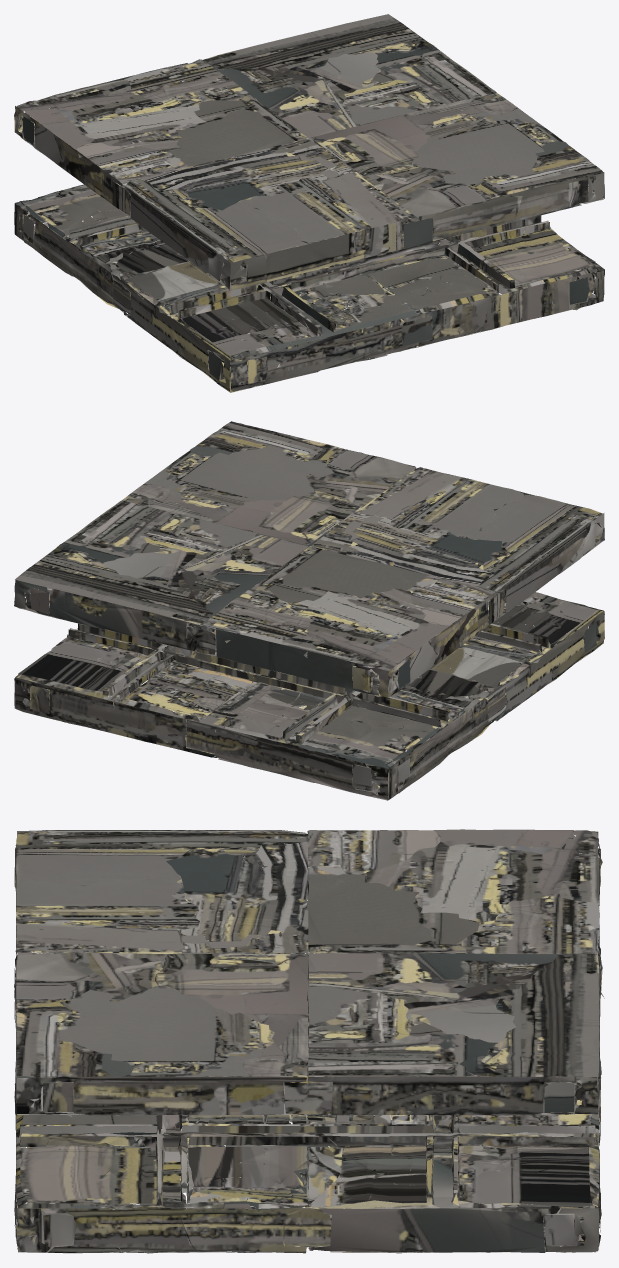
The model's file is Env_FloorSlab_4m.fbx.
The picture shows the model from 3 angles, top to bottom: view 1: azimuth 30°, elevation 25°; view 2: azimuth 150°, elevation 25°; view 3: azimuth 270°, elevation 25°; orthographic projection. The views are drawn at different scales.
Visible parts, largest first — view 1: texture_mapping; view 2: texture_mapping; view 3: texture_mapping.
Part boxes in pixels (x1=…): texture_mapping: x1=14, y1=14, x2=604, y2=392; texture_mapping: x1=14, y1=421, x2=604, y2=800; texture_mapping: x1=14, y1=829, x2=604, y2=1253.
Bounding box in the file's own units: 1.01 × 0.3504 × 1.
